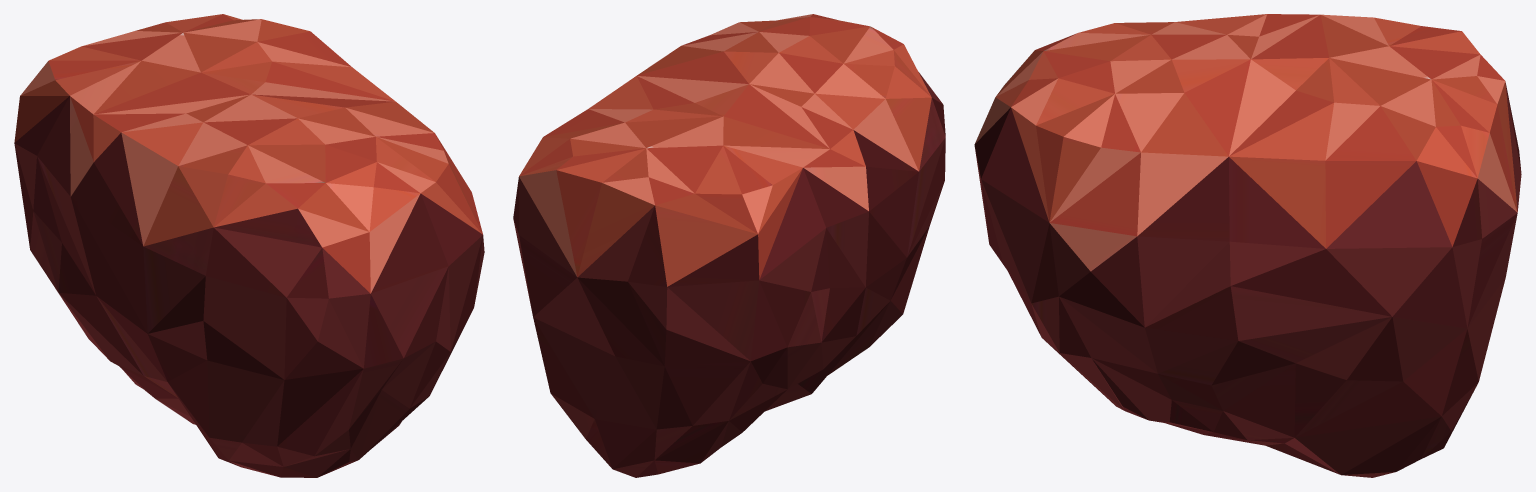
The model's file is Rectangle_Island_Low_Lvl_1.fbx.
The picture shows the model from 3 angles, left to right: view 1: azimuth 30°, elevation 25°; view 2: azimuth 150°, elevation 25°; view 3: azimuth 270°, elevation 25°; orthographic projection. The views are drawn at different scales.
Visible parts, largest first — view 1: Recangle_Island_Low; view 2: Recangle_Island_Low; view 3: Recangle_Island_Low.
Part boxes in pixels (x1,y1,x2,y2): Recangle_Island_Low: [14, 14, 484, 477]; Recangle_Island_Low: [513, 14, 945, 477]; Recangle_Island_Low: [974, 14, 1521, 477].
Size of the model in its own units: 926 by 1046 by 1324.
